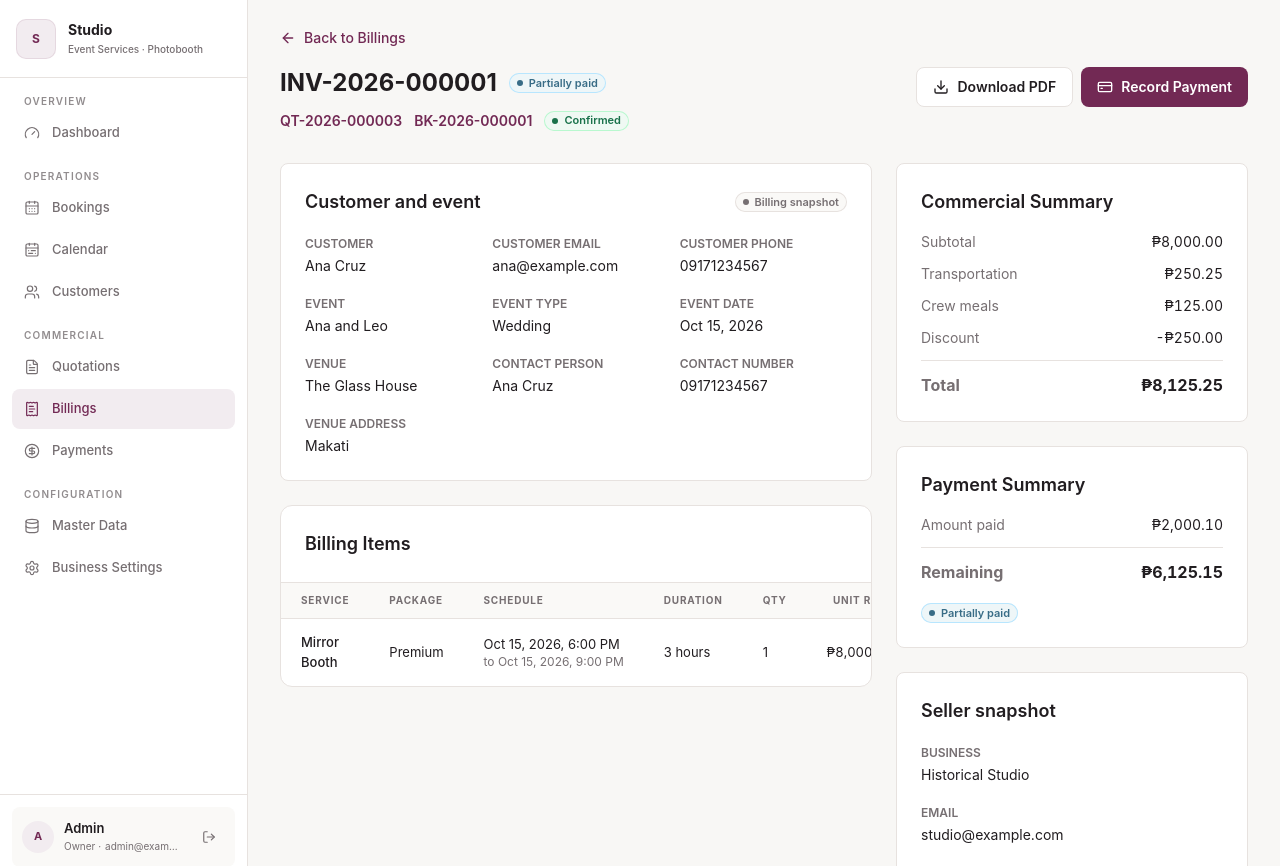
Billing detail records a subsequent partial Payment with exact balance validation
Click the button "Record Payment" at (1165, 87), box x1=1081 y1=67 x2=1248 y2=107
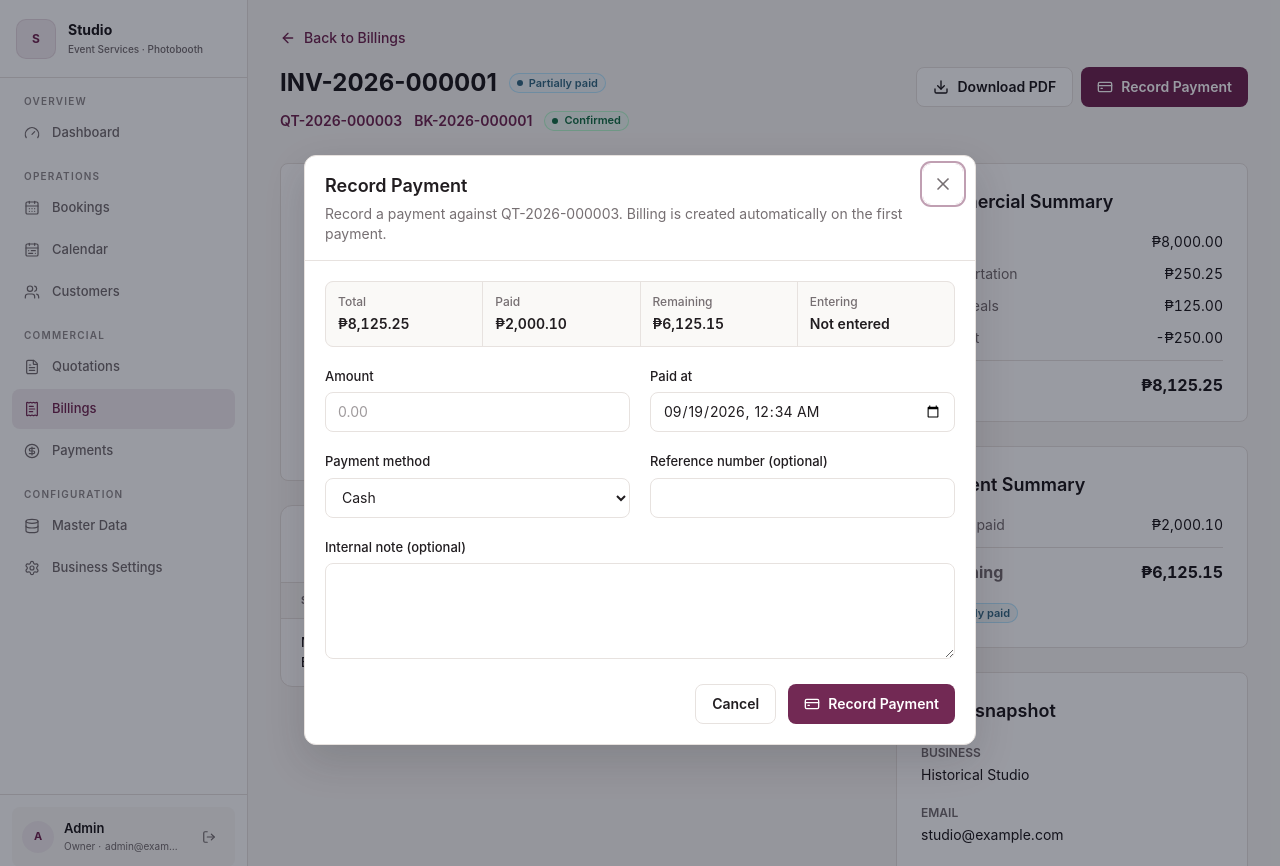
Type "6125.16" into the field labelled "Amount" at (478, 412), box x1=325 y1=392 x2=630 y2=432
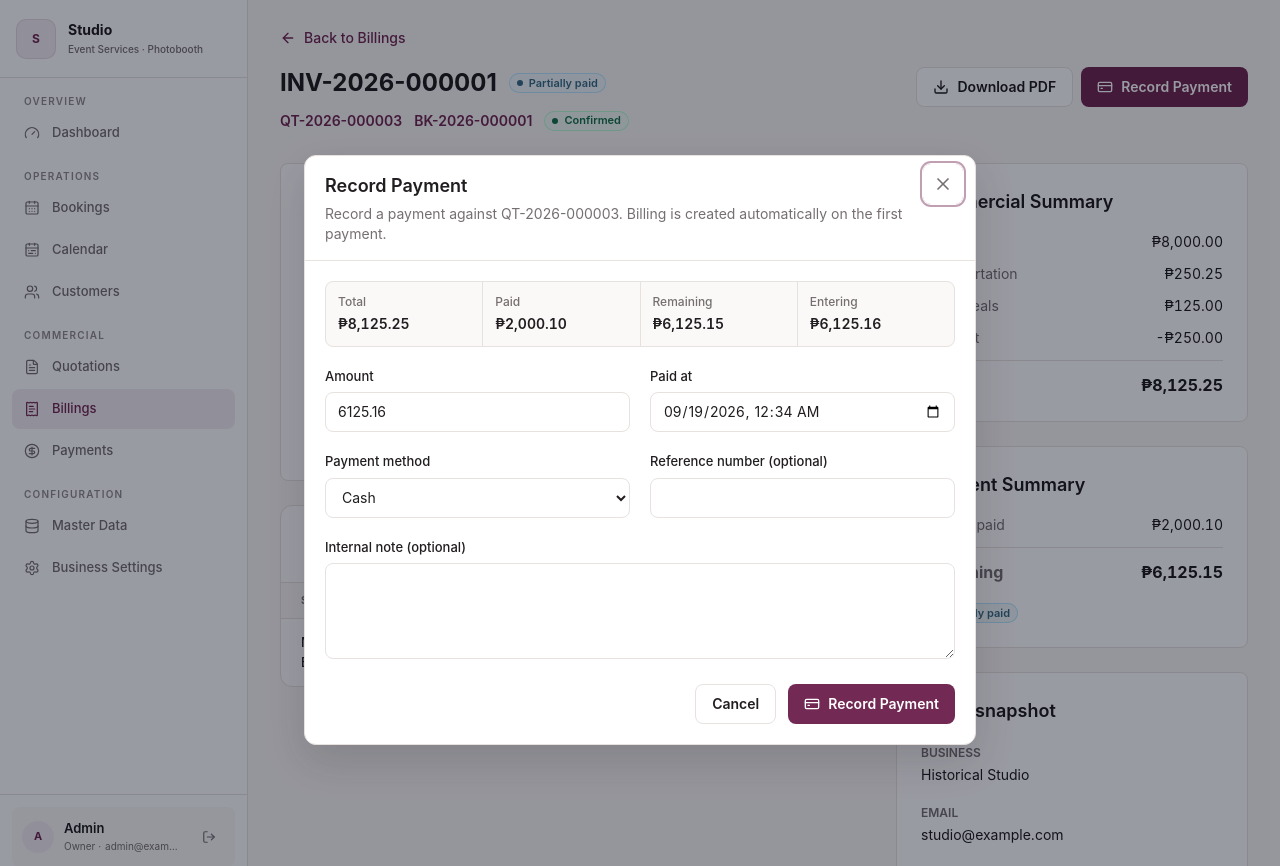
Click the button "Record Payment" at (872, 704), box x1=788 y1=684 x2=955 y2=724
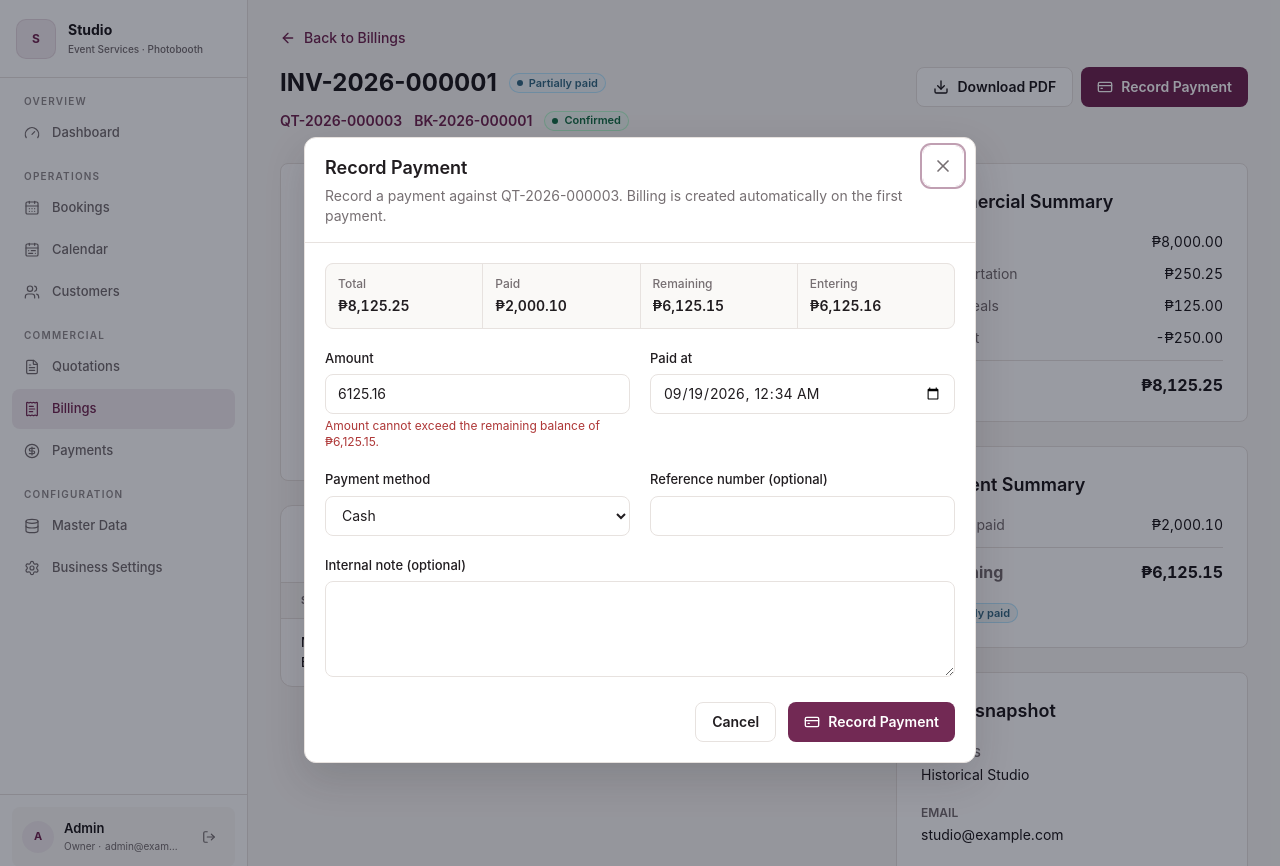
Result: the text "Amount cannot exceed the remaining balance of ₱6,125.15." is shown at x1=325 y1=418 x2=630 y2=450
Replace the text in the field labelled "Amount" with "125.05" at (478, 394), box x1=325 y1=374 x2=630 y2=414
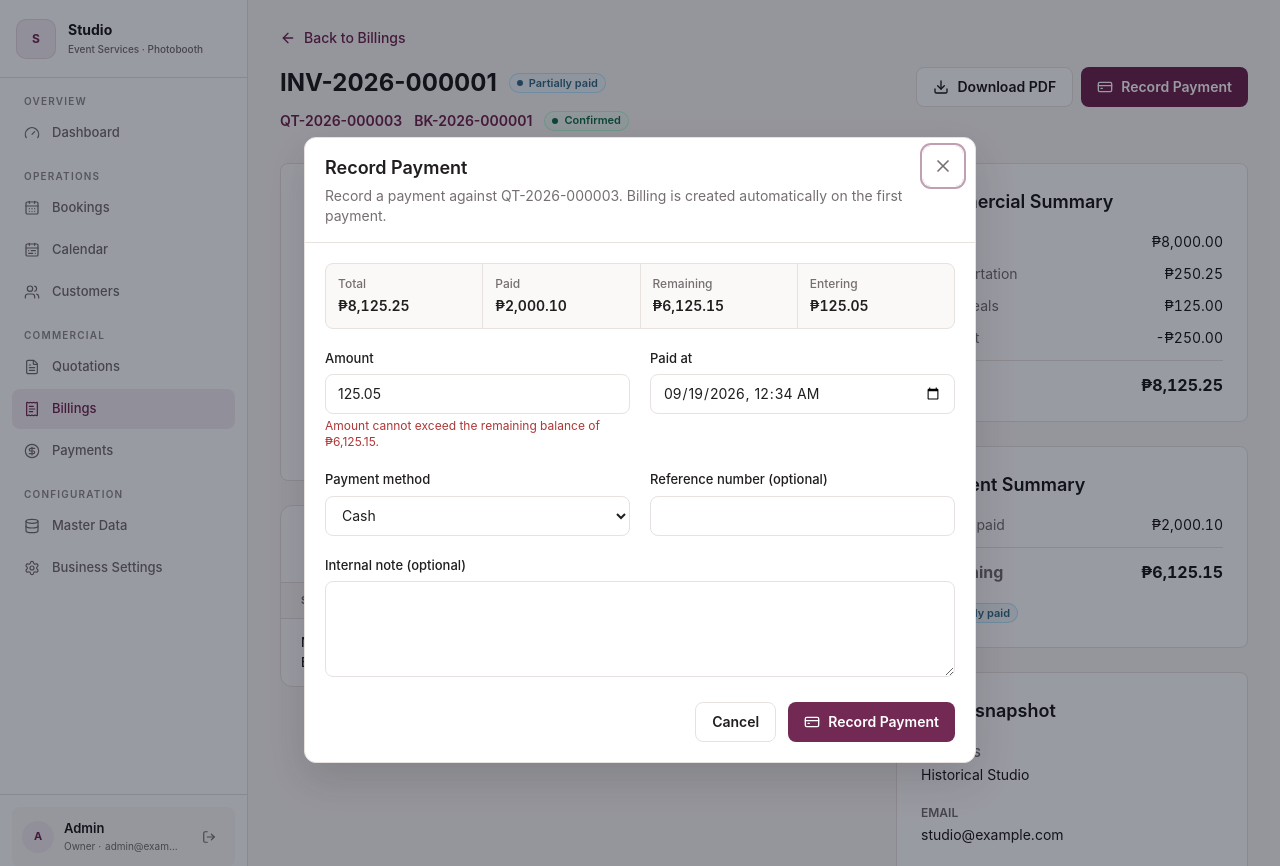
Click the button "Record Payment" at (872, 722), box x1=788 y1=702 x2=955 y2=742
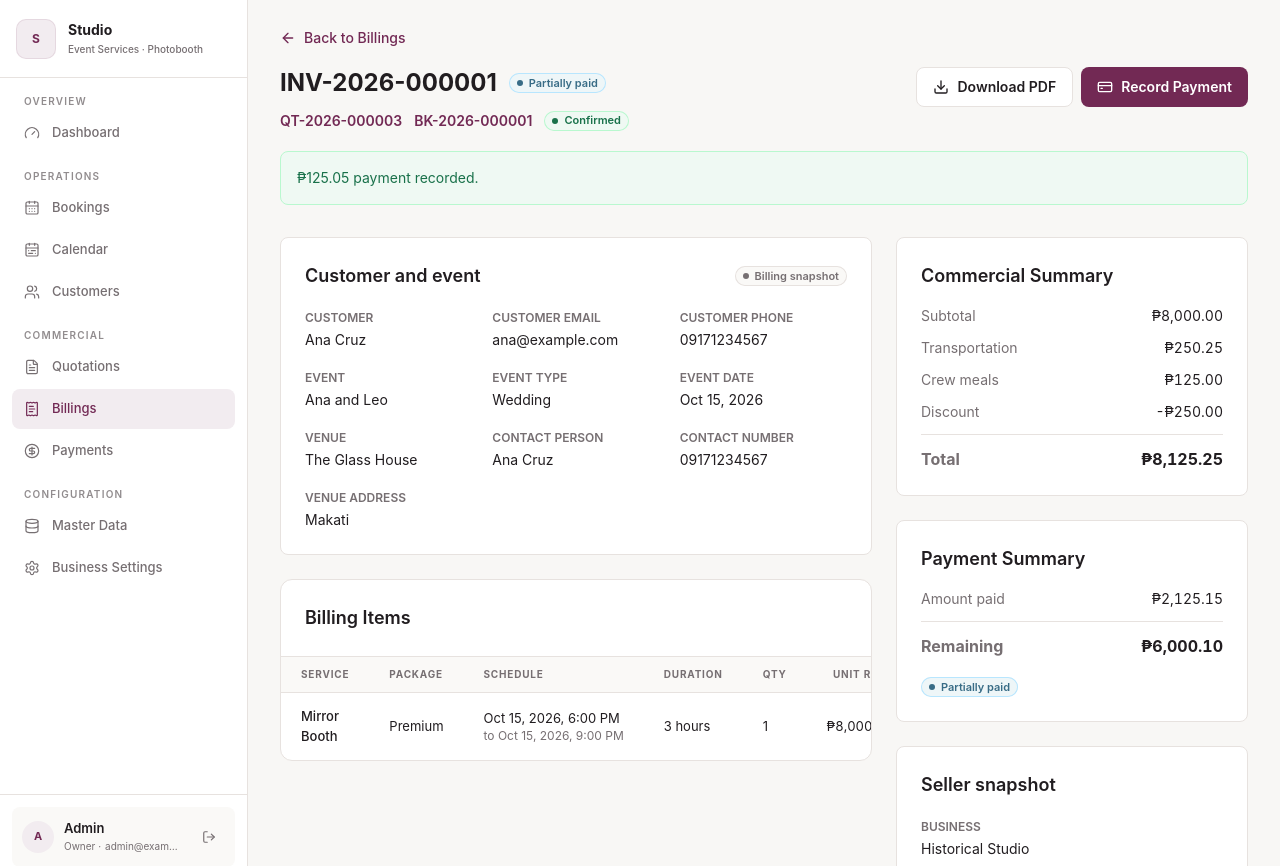
Result: the text "₱125.05 payment recorded." is shown at x1=280 y1=151 x2=1248 y2=205
Result: the text "₱6,000.10" is shown at x1=1141 y1=634 x2=1223 y2=658
